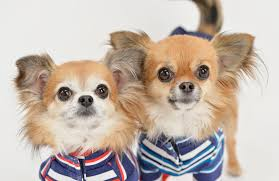dog: (113, 25, 240, 181), (11, 47, 141, 181)
